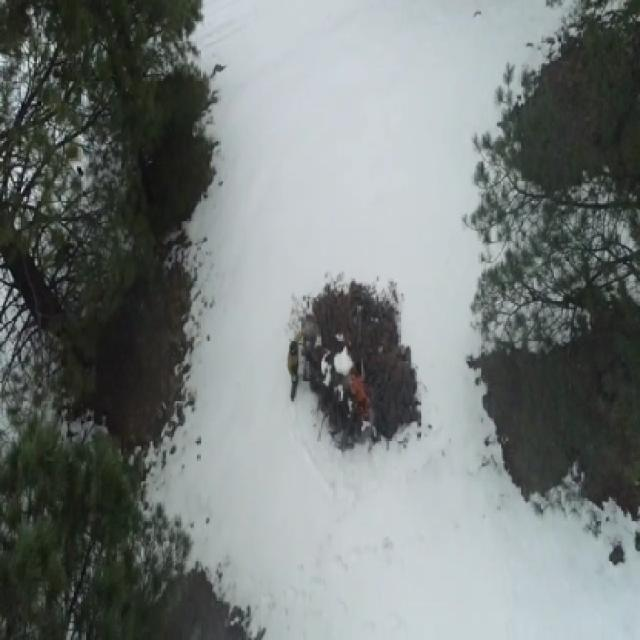Fire: (350, 370, 371, 418)
